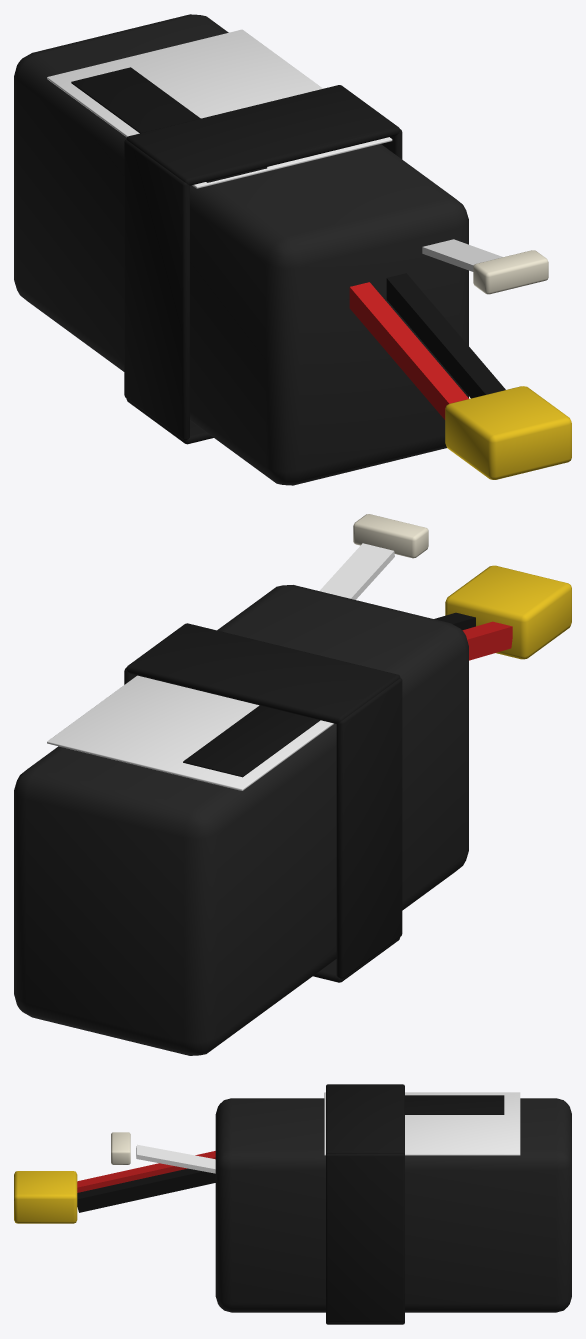
Rendered from batt_6s1800.glb.
3 views of the same model, one above another, from view 1: azimuth 30°, elevation 25°; view 2: azimuth 150°, elevation 25°; view 3: azimuth 270°, elevation 25° (orthographic). The views are drawn at different scales.
Visible parts, largest first — view 1: batt_6s1800_M_Wrap_6s1800, batt_6s1800_M_Strap, batt_6s1800_M_Label, batt_6s1800_M_WireBlack, batt_6s1800_M_XT60, batt_6s1800_M_WireRed, batt_6s1800_M_Connector; view 2: batt_6s1800_M_Wrap_6s1800, batt_6s1800_M_Strap, batt_6s1800_M_Label, batt_6s1800_M_XT60, batt_6s1800_M_WireBlack, batt_6s1800_M_Connector, batt_6s1800_M_WireRed; view 3: batt_6s1800_M_Wrap_6s1800, batt_6s1800_M_Strap, batt_6s1800_M_Label, batt_6s1800_M_WireBlack, batt_6s1800_M_XT60, batt_6s1800_M_WireRed, batt_6s1800_M_Connector.
Boxes of the visible parts, x1=… form: batt_6s1800_M_Wrap_6s1800: x1=14, y1=14, x2=468, y2=485; batt_6s1800_M_Strap: x1=124, y1=85, x2=402, y2=444; batt_6s1800_M_Label: x1=47, y1=29, x2=502, y2=271; batt_6s1800_M_WireBlack: x1=71, y1=67, x2=505, y2=398; batt_6s1800_M_XT60: x1=445, y1=386, x2=571, y2=479; batt_6s1800_M_WireRed: x1=349, y1=282, x2=468, y2=419; batt_6s1800_M_Connector: x1=473, y1=250, x2=548, y2=294; batt_6s1800_M_Wrap_6s1800: x1=14, y1=585, x2=468, y2=1055; batt_6s1800_M_Strap: x1=124, y1=623, x2=402, y2=982; batt_6s1800_M_Label: x1=47, y1=543, x2=394, y2=790; batt_6s1800_M_XT60: x1=445, y1=565, x2=571, y2=659; batt_6s1800_M_WireBlack: x1=183, y1=612, x2=475, y2=777; batt_6s1800_M_Connector: x1=353, y1=514, x2=428, y2=558; batt_6s1800_M_WireRed: x1=462, y1=621, x2=512, y2=660; batt_6s1800_M_Wrap_6s1800: x1=215, y1=1098, x2=571, y2=1312; batt_6s1800_M_Strap: x1=326, y1=1084, x2=404, y2=1324; batt_6s1800_M_Label: x1=136, y1=1092, x2=520, y2=1173; batt_6s1800_M_WireBlack: x1=77, y1=1095, x2=504, y2=1212; batt_6s1800_M_XT60: x1=14, y1=1171, x2=77, y2=1223; batt_6s1800_M_WireRed: x1=77, y1=1151, x2=215, y2=1192; batt_6s1800_M_Connector: x1=111, y1=1132, x2=130, y2=1164.
Size of the model in its own units: 0.0418 by 0.0483 by 0.141.
